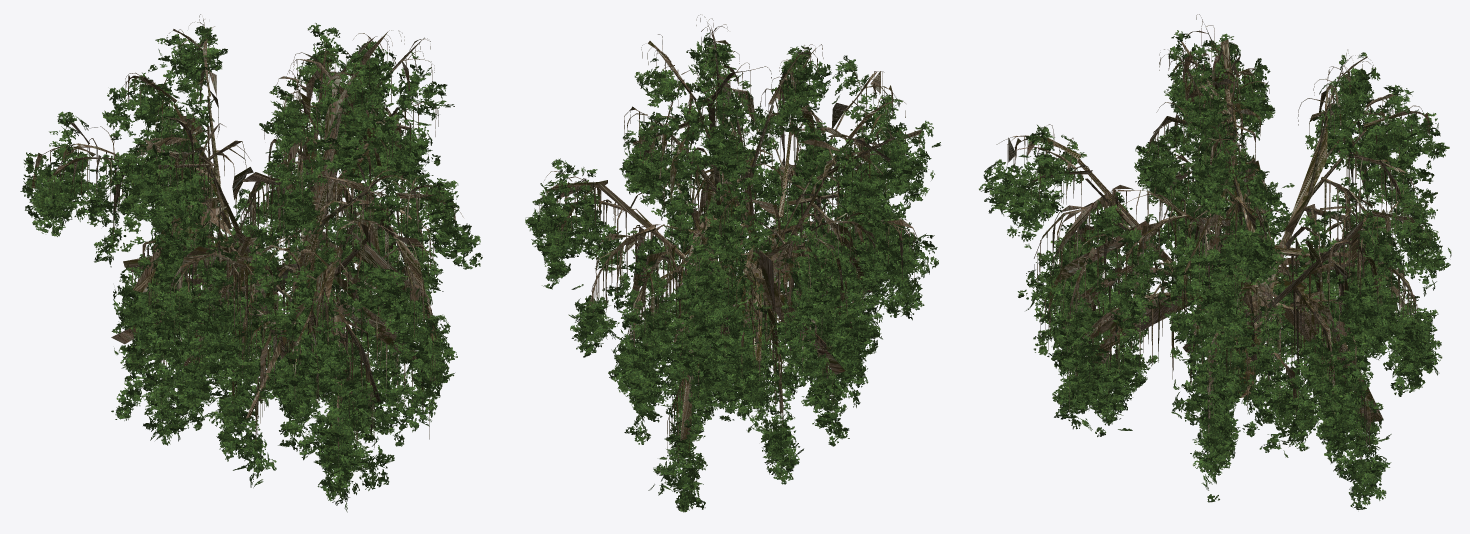
The model's file is prop_tree_willow_real.glb.
The picture shows the model from 3 angles, left to right: view 1: azimuth 30°, elevation 25°; view 2: azimuth 150°, elevation 25°; view 3: azimuth 270°, elevation 25°; orthographic projection. The views are drawn at different scales.
Visible parts, largest first — view 1: individual_willow_leaves, tree; view 2: individual_willow_leaves, tree; view 3: individual_willow_leaves, tree.
Boxes of the visible parts, x1=… form: individual_willow_leaves: x1=20, y1=23, x2=482, y2=512; tree: x1=31, y1=14, x2=463, y2=467; individual_willow_leaves: x1=525, y1=32, x2=940, y2=512; tree: x1=537, y1=14, x2=922, y2=472; individual_willow_leaves: x1=979, y1=30, x2=1451, y2=509; tree: x1=996, y1=14, x2=1431, y2=459.
Size of the model in its own units: 12.07 by 14.13 by 13.35.
Materials: 2 (2 with a texture image).
